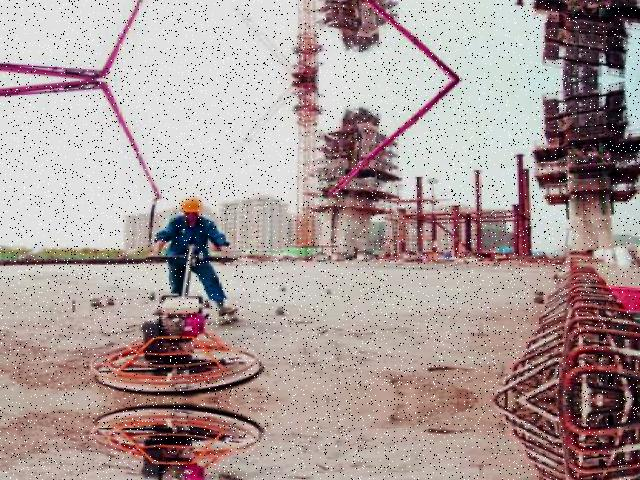Helmet: (180, 193, 208, 216)
